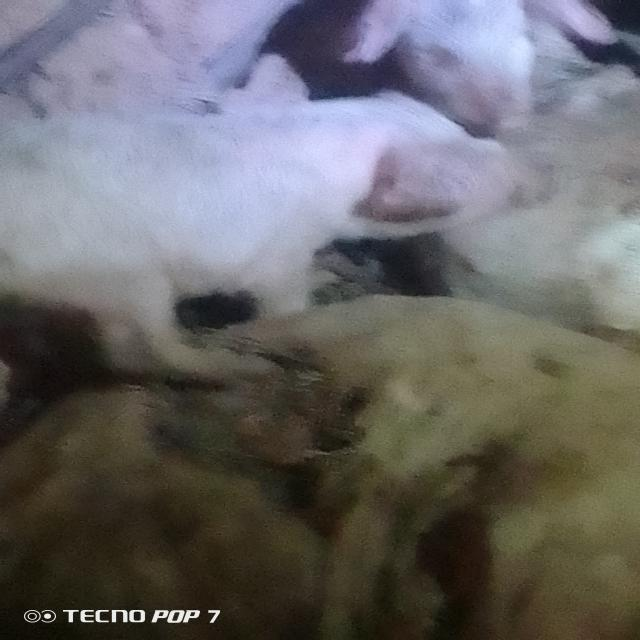Right: (3, 92, 513, 368)
